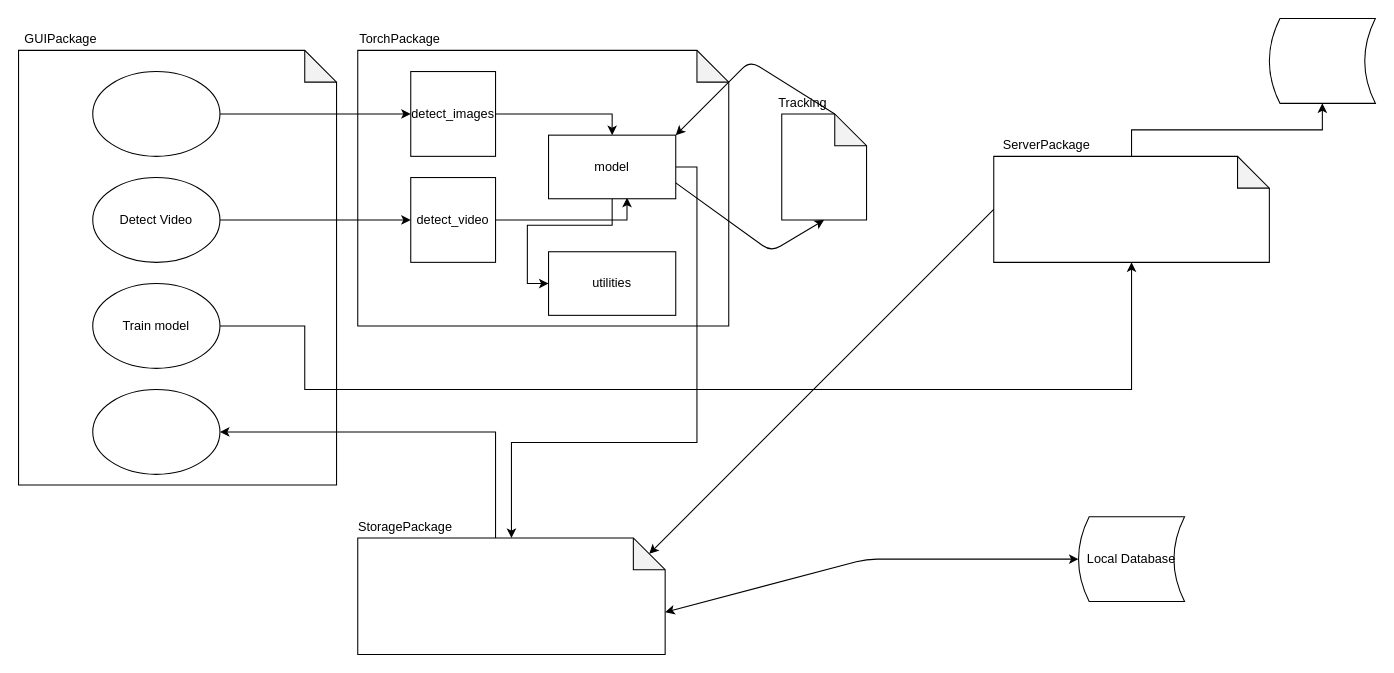
Image size: 1394x673. Some labels were removed from this diagram. The shapes that lost their labels are listed below. From the top down, each one's box as (x1, y1, x2, y2) in pixels, then its label:
(1268, 17, 1375, 103): Server
(92, 70, 220, 156): Detect Images
(92, 388, 220, 474): Get statistics
